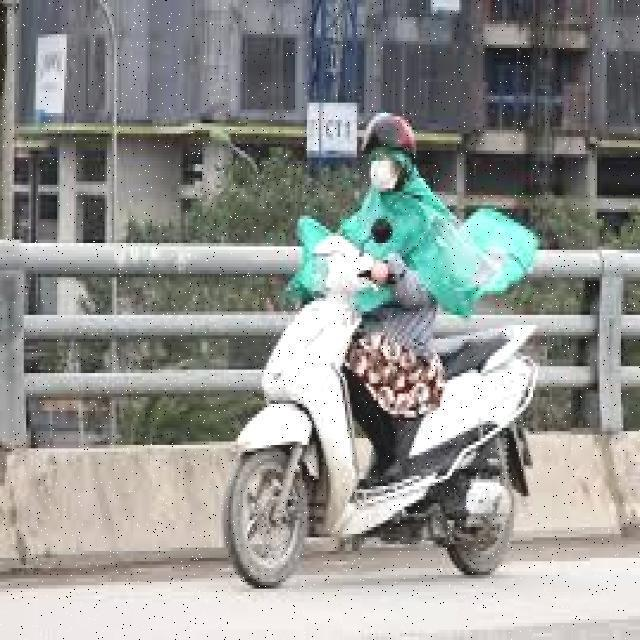motorcycle: (222, 229, 548, 584)
